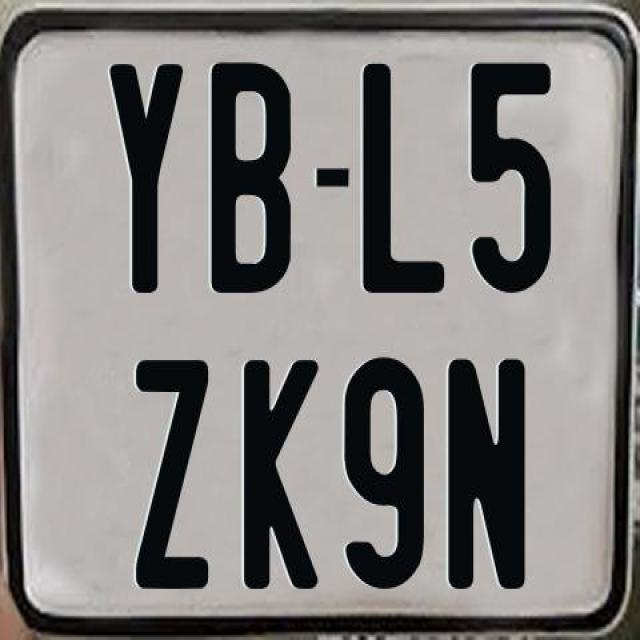5: (467, 63, 553, 300)
9: (341, 357, 427, 592)
B: (208, 62, 286, 292)
K: (241, 357, 323, 589)
L: (361, 59, 443, 296)
N: (446, 359, 526, 594)
Y: (109, 63, 183, 292)
Z: (136, 357, 208, 594)
